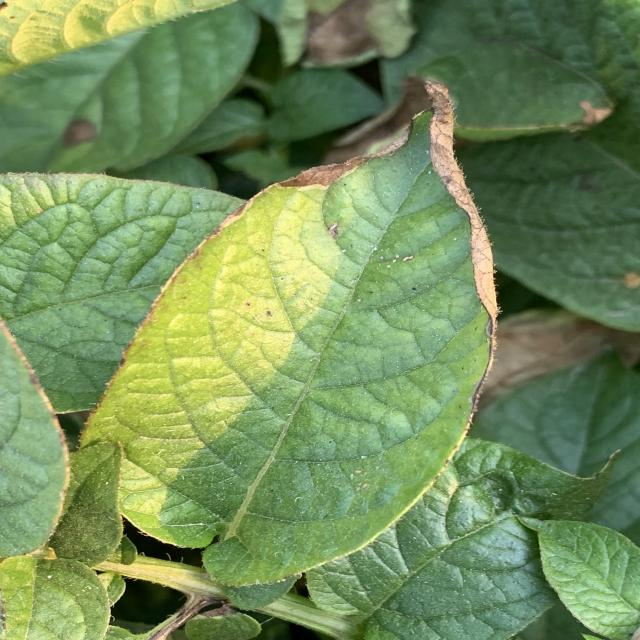lateblight: (403, 78, 498, 336), (277, 129, 410, 188)
